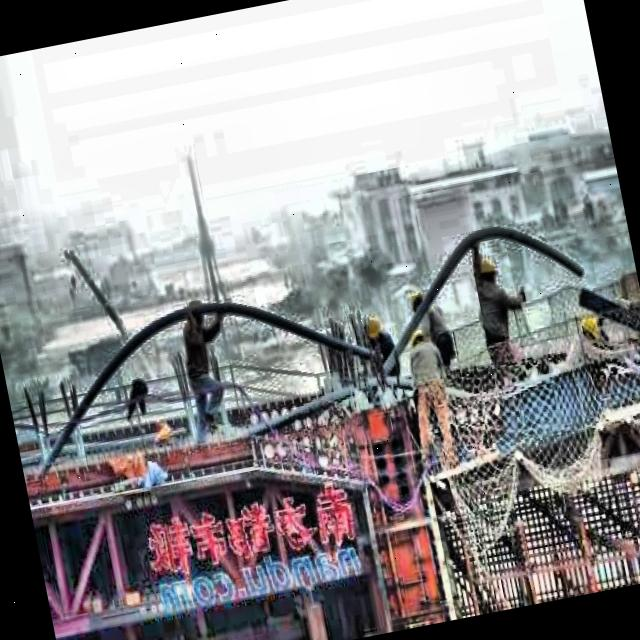helmet: (403, 323, 431, 358), (574, 312, 602, 346), (476, 253, 500, 290), (404, 284, 431, 314), (362, 314, 384, 344)
